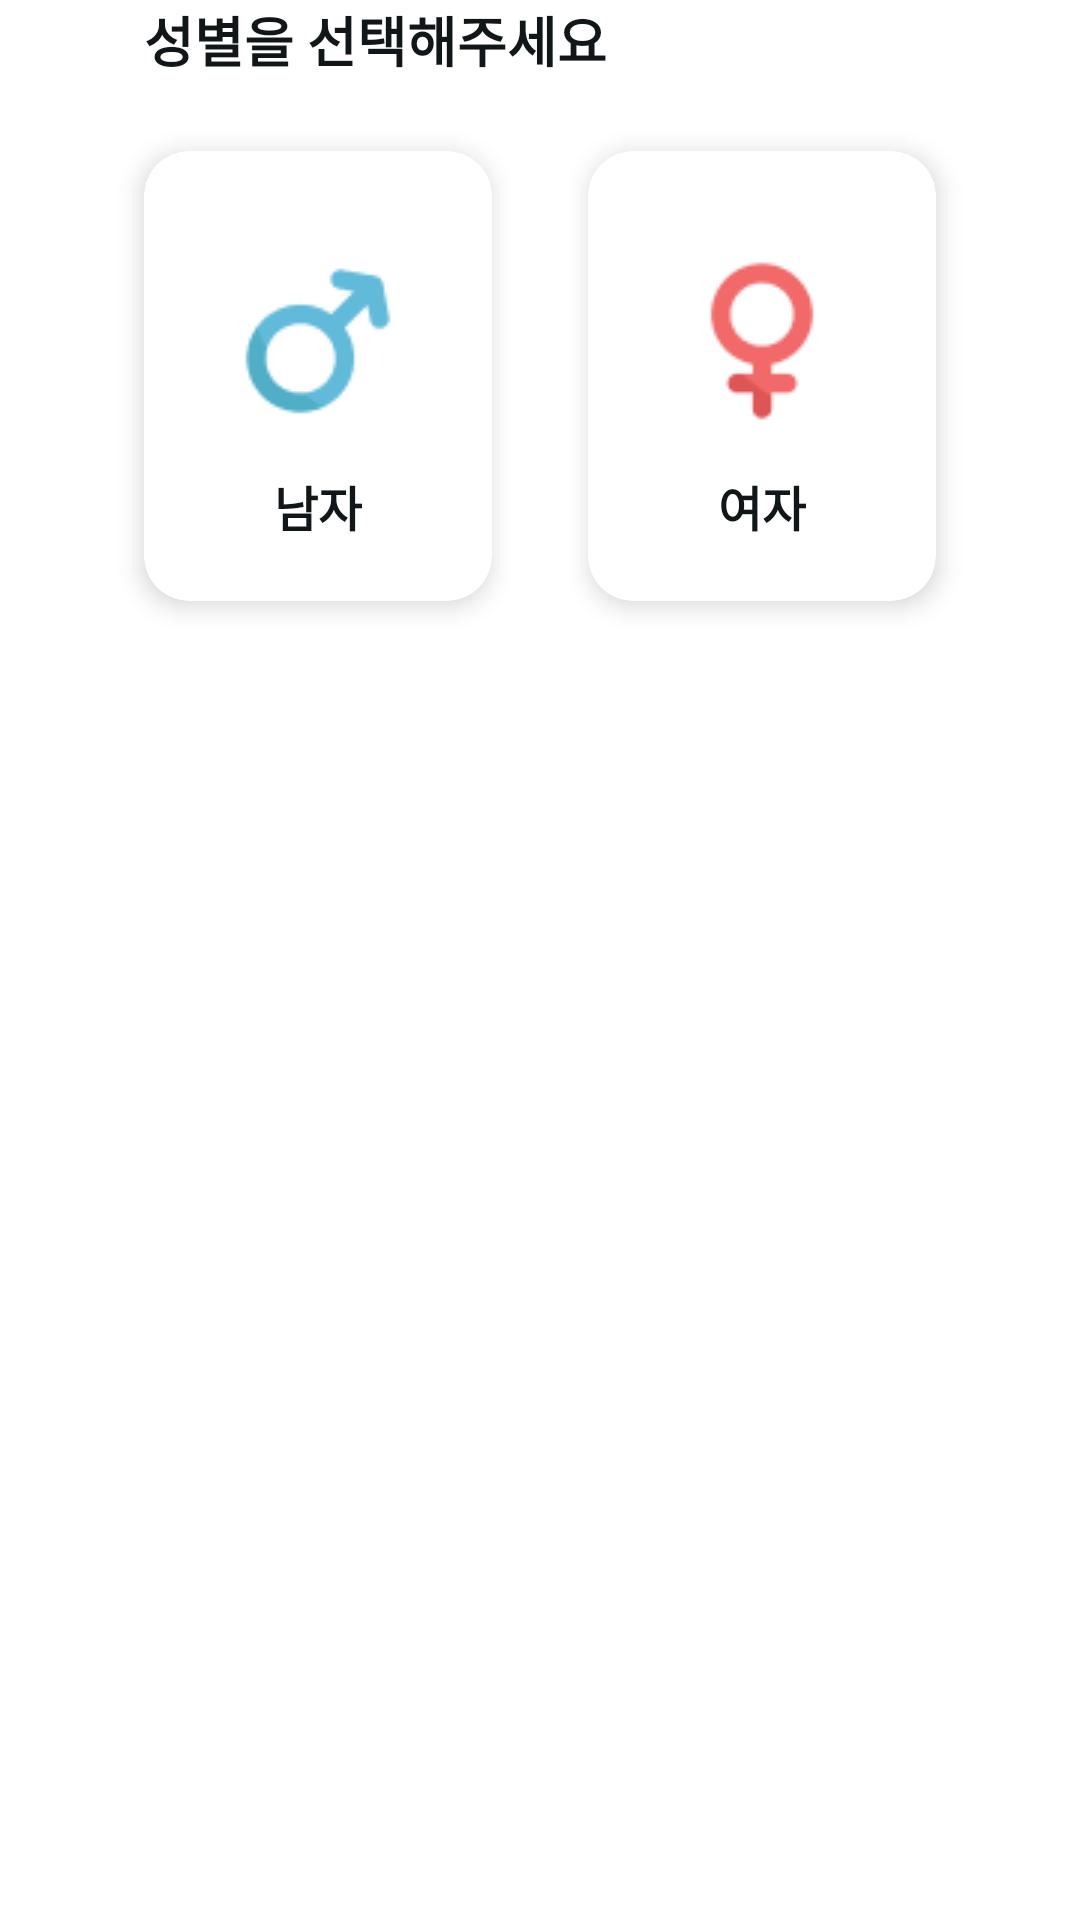

Icons on this 1080*1920 Android screen, each with the point to tap as [x,y]:
gender female: [762,341]
gender male: [318,341]
